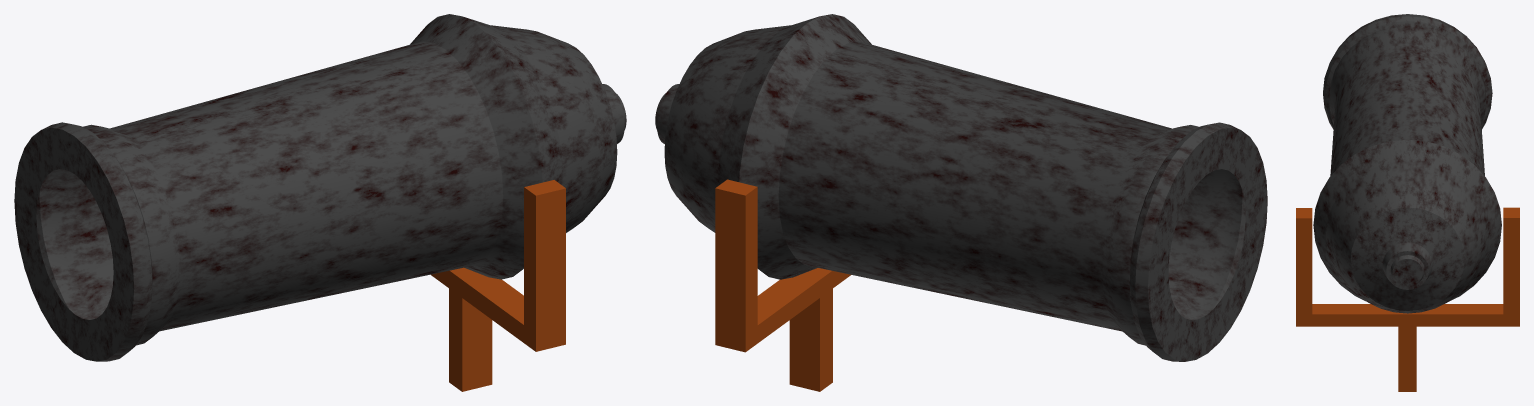
Rendered from пушка.fbx.
The picture shows the model from 3 angles, left to right: view 1: azimuth 30°, elevation 25°; view 2: azimuth 150°, elevation 25°; view 3: azimuth 270°, elevation 25°; orthographic projection. The views are drawn at different scales.
Visible parts, largest first — view 1: Cylinder, Cube; view 2: Cylinder, Cube; view 3: Cylinder, Cube.
Boxes of the visible parts, box(x1,y1,x2,y2) form: Cylinder: box(14, 14, 626, 361); Cube: box(431, 180, 565, 391); Cylinder: box(655, 14, 1267, 361); Cube: box(715, 179, 851, 391); Cylinder: box(1313, 14, 1501, 313); Cube: box(1296, 207, 1519, 391).
Bounding box in the file's own units: 493 × 312 × 254.
Materials: 2 (1 with a texture image).
